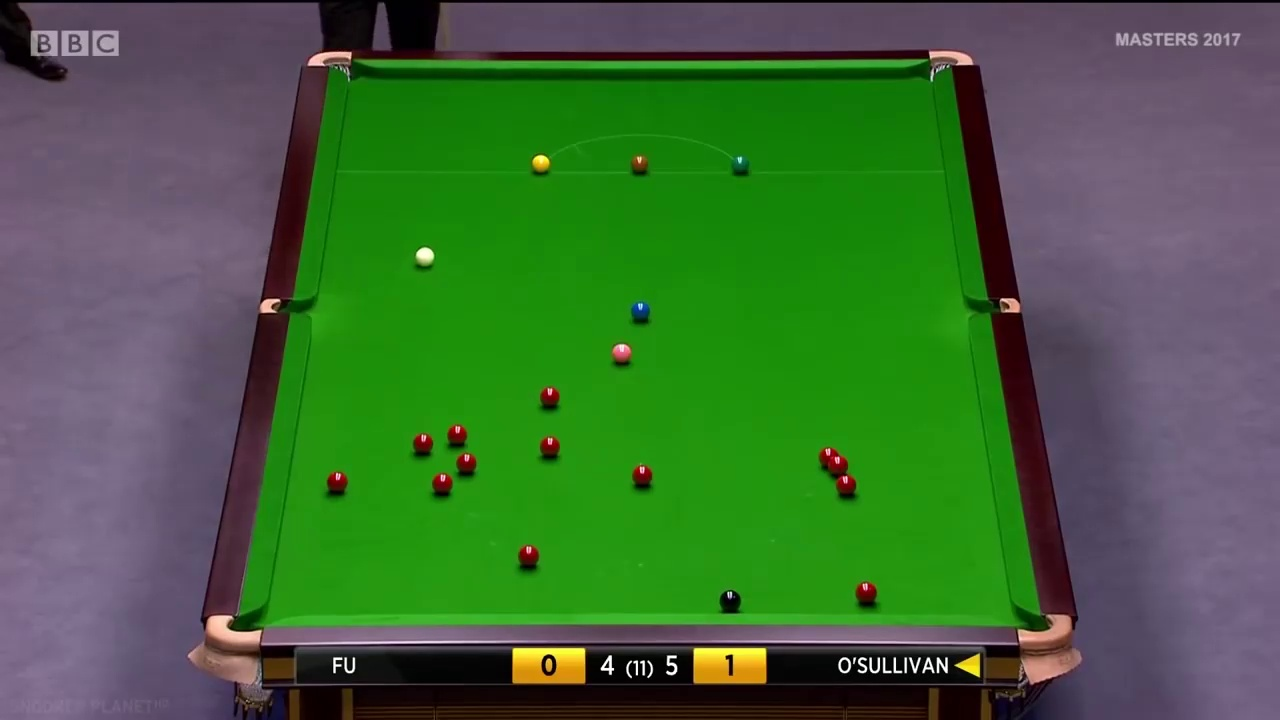ball: (429, 473, 456, 496), (631, 464, 655, 488), (518, 543, 540, 569), (529, 152, 552, 176), (718, 589, 742, 612), (539, 433, 562, 457), (325, 470, 350, 492), (538, 384, 561, 407), (411, 248, 434, 270), (833, 473, 854, 497), (855, 581, 877, 603), (627, 154, 650, 174), (609, 343, 632, 363), (410, 433, 433, 453), (447, 423, 467, 446), (455, 454, 478, 473), (629, 301, 649, 320), (730, 155, 748, 176)
